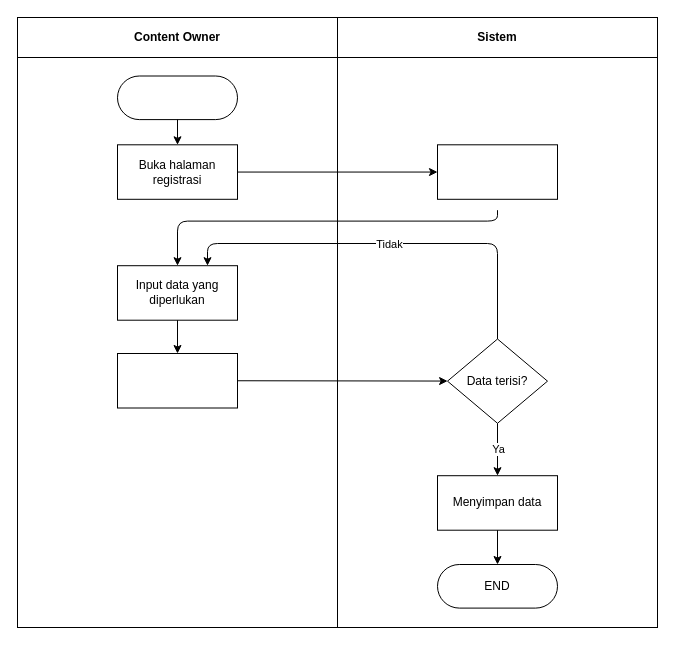
This 675x665 diagram has some shape labels left out. The shapes that lost their labels are listed below. From the top down, each one's centre as x and y in pixels, then its label:
the point at 177,97: START
the point at 497,171: Tampilkan halaman registrasi
the point at 177,380: Submit data
